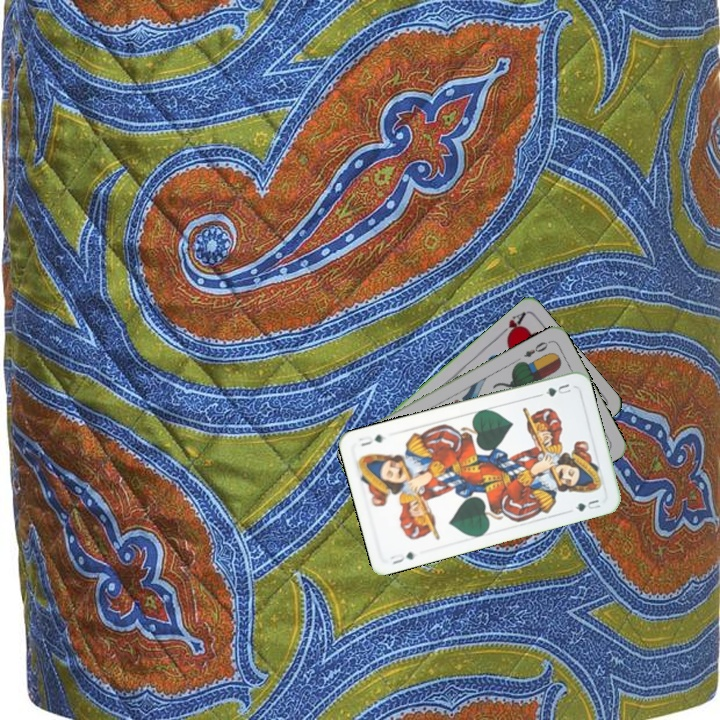EO: (520, 337, 553, 360)
GU: (535, 379, 574, 399), (386, 548, 418, 567)
HA: (494, 308, 528, 343)
